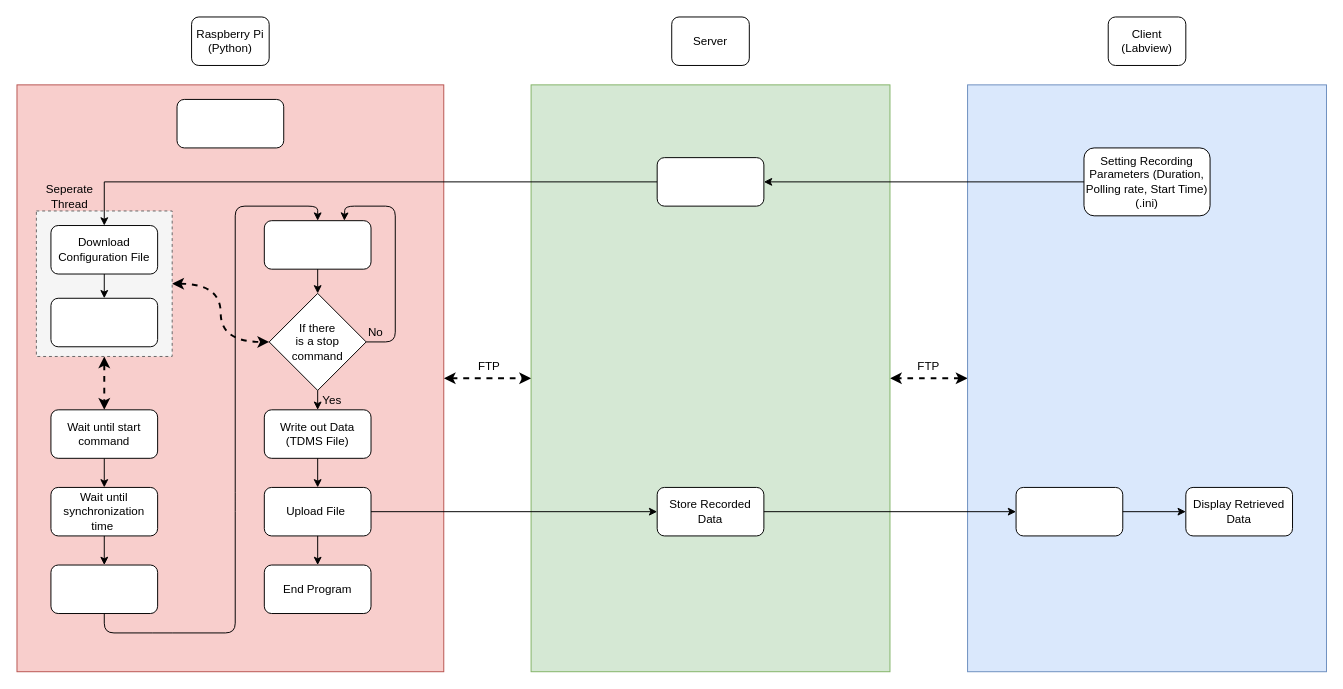
Some shapes in this 1343 by 689 pixel diagram are drawn without their labels. The box of each missing label's shape, as (x1, y1, x2, y2) in pixels:
Initialize HAT (MCC 118): (176, 98, 284, 148)
Retrieve Recorded Data: (1015, 486, 1123, 536)
Start Recording: (50, 564, 158, 614)
Store Configuration FIle: (656, 157, 764, 206)
Store Data: (263, 220, 371, 269)
Update Configuration: (50, 297, 158, 347)
